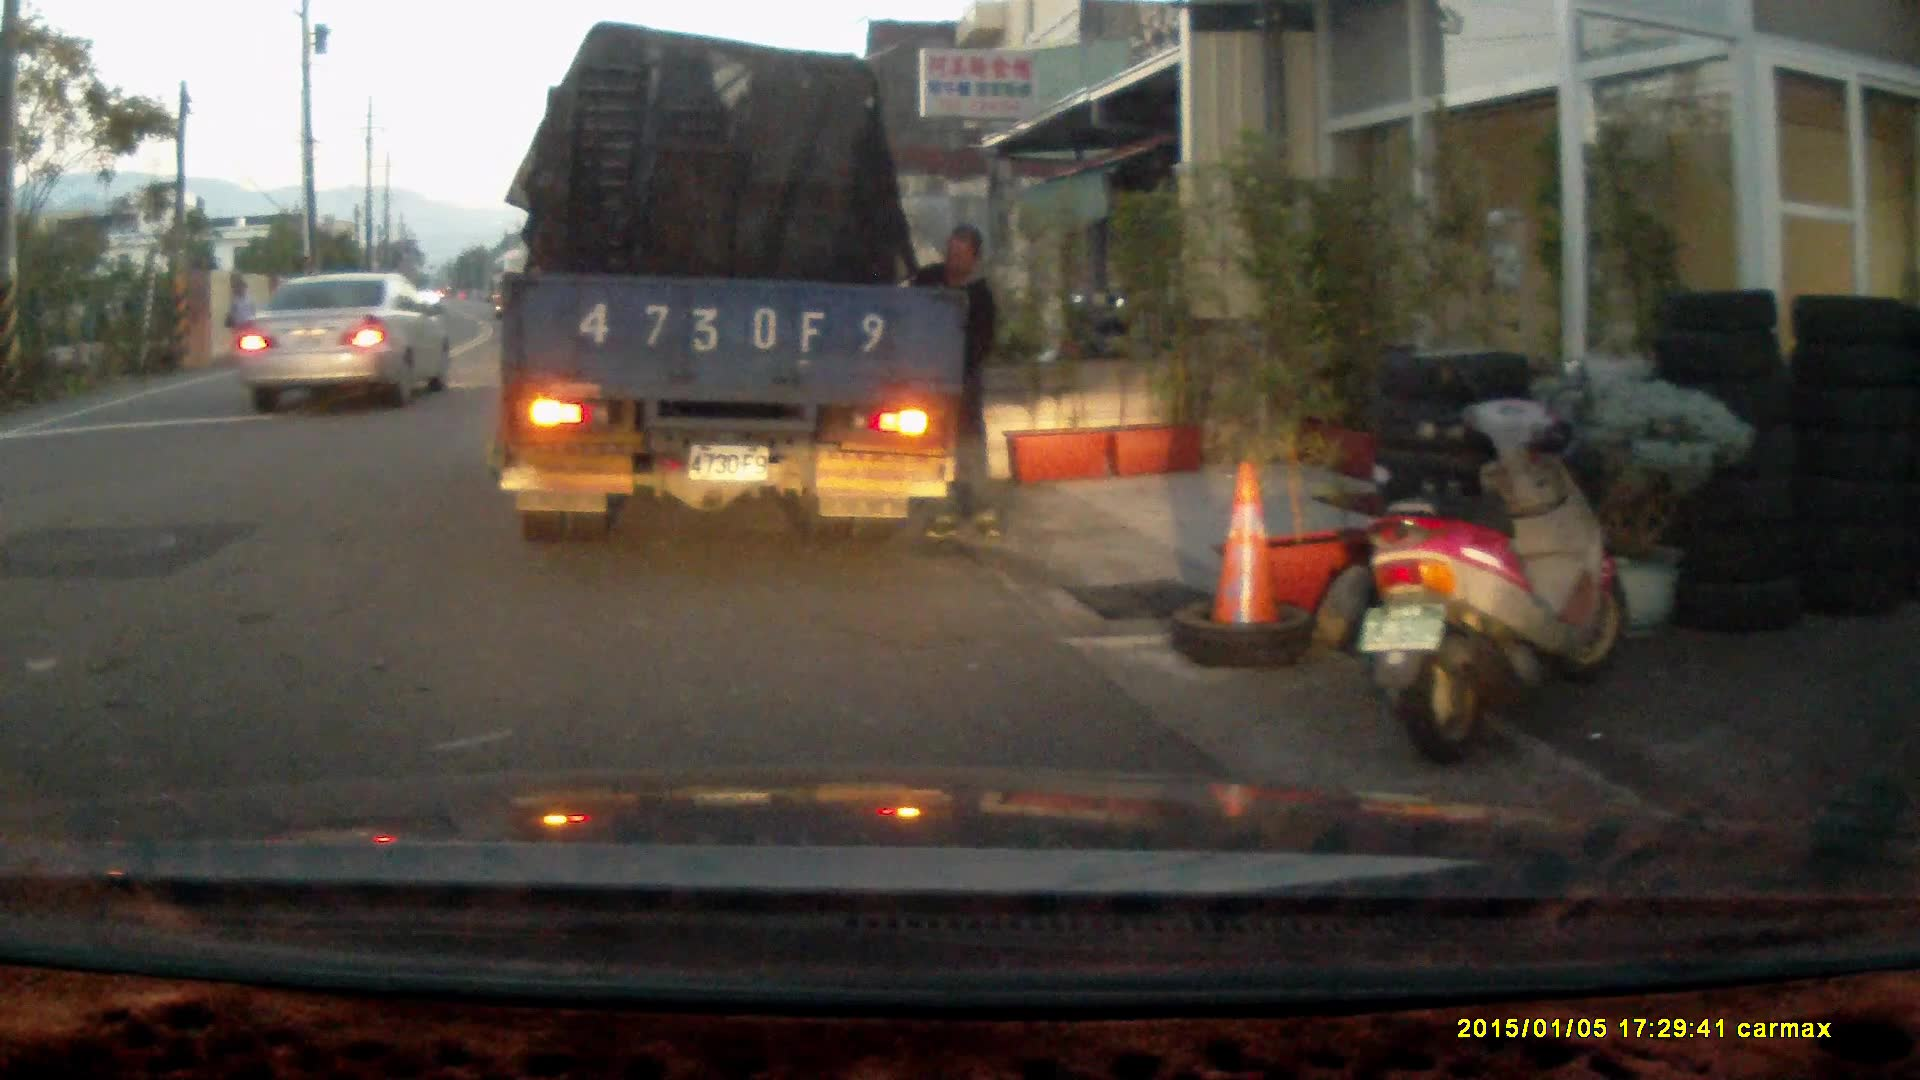pedestrian: (909, 220, 1001, 542), (218, 276, 257, 368)
vehicle: (506, 29, 975, 542), (243, 271, 459, 411)
